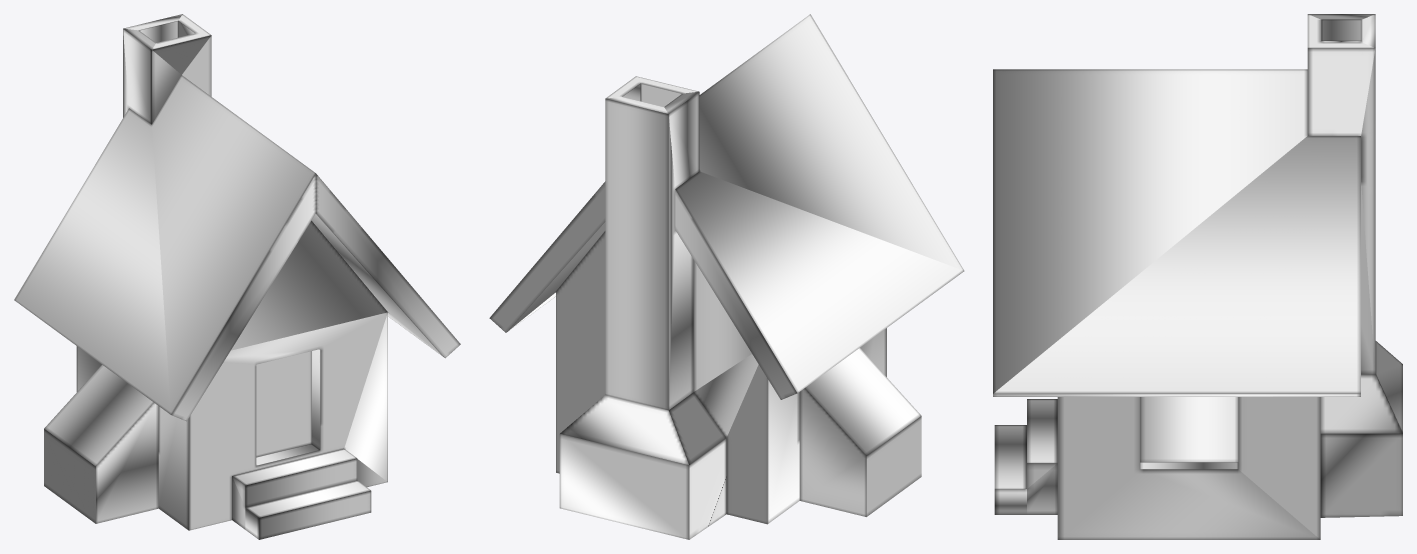
Rendered from House-01.fbx.
3 views of the same model, side by side, from view 1: azimuth 30°, elevation 25°; view 2: azimuth 150°, elevation 25°; view 3: azimuth 270°, elevation 25° (orthographic). The views are drawn at different scales.
Parts seen in each view (by area): view 1: House_01; view 2: House_01; view 3: House_01.
Part boxes in pixels (bbox=[...]): House_01: bbox=[14, 14, 460, 539]; House_01: bbox=[489, 14, 964, 539]; House_01: bbox=[993, 14, 1402, 539].
Size of the model in its own units: 1.38 by 1.65 by 1.36.
